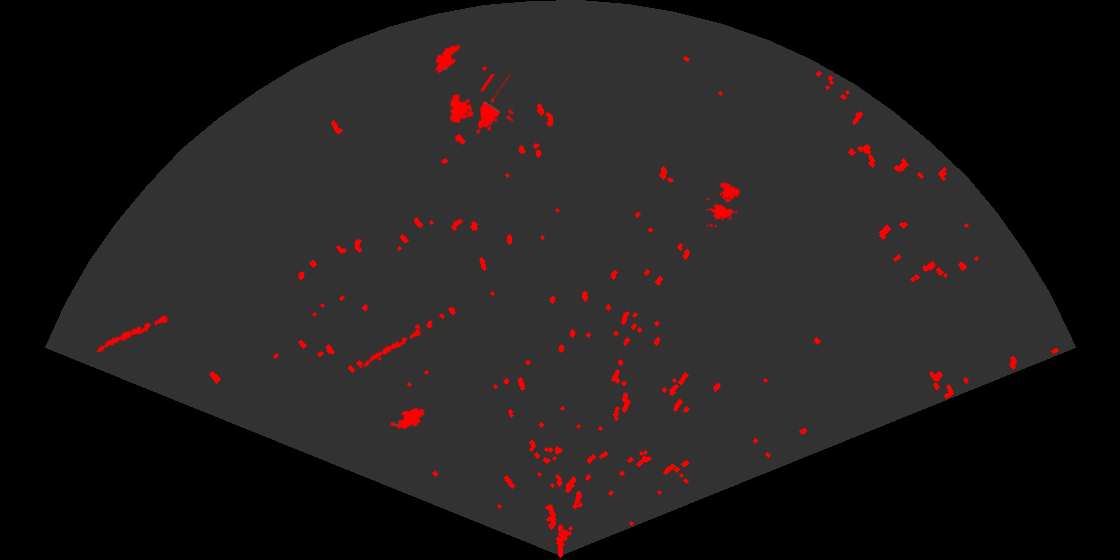AUV: (388, 406, 427, 431), (434, 43, 462, 75)
cage: (448, 74, 513, 136), (706, 180, 742, 227)
chain: (94, 313, 172, 354), (355, 327, 424, 370)
